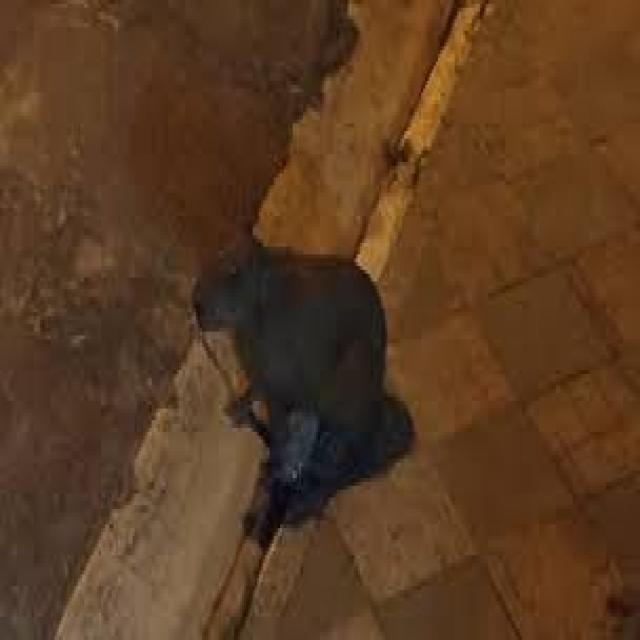capy: (188, 217, 390, 475)
